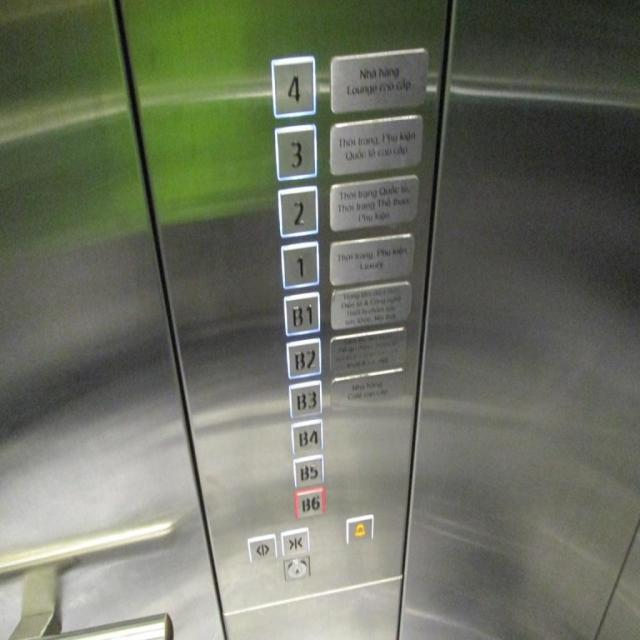1: (279, 239, 321, 291)
2: (275, 182, 320, 240)
3: (272, 122, 319, 183)
4: (269, 52, 318, 120)
B1: (281, 289, 322, 339)
B2: (283, 335, 323, 382)
B3: (286, 378, 325, 422)
B4: (289, 415, 325, 457)
B5: (292, 450, 326, 492)
B6: (294, 484, 327, 521)
alarm: (344, 511, 374, 544)
close: (280, 524, 312, 557)
keyhole: (282, 550, 310, 582)
open: (245, 531, 278, 563)
